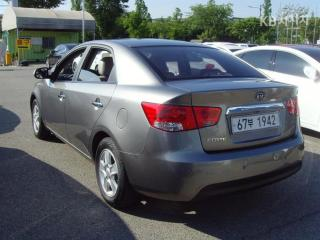1: (257, 117, 261, 127)
2: (271, 114, 278, 126)
4: (267, 115, 272, 127)
6: (237, 118, 243, 130)
7: (243, 118, 248, 130)
9: (261, 116, 267, 127)
부: (248, 118, 254, 129)
